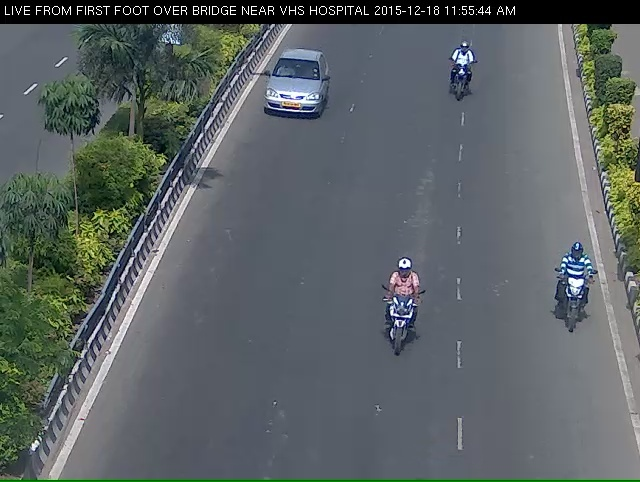Car: (253, 46, 340, 144)
Person: (373, 274, 429, 390), (549, 246, 599, 367), (445, 46, 480, 123)
